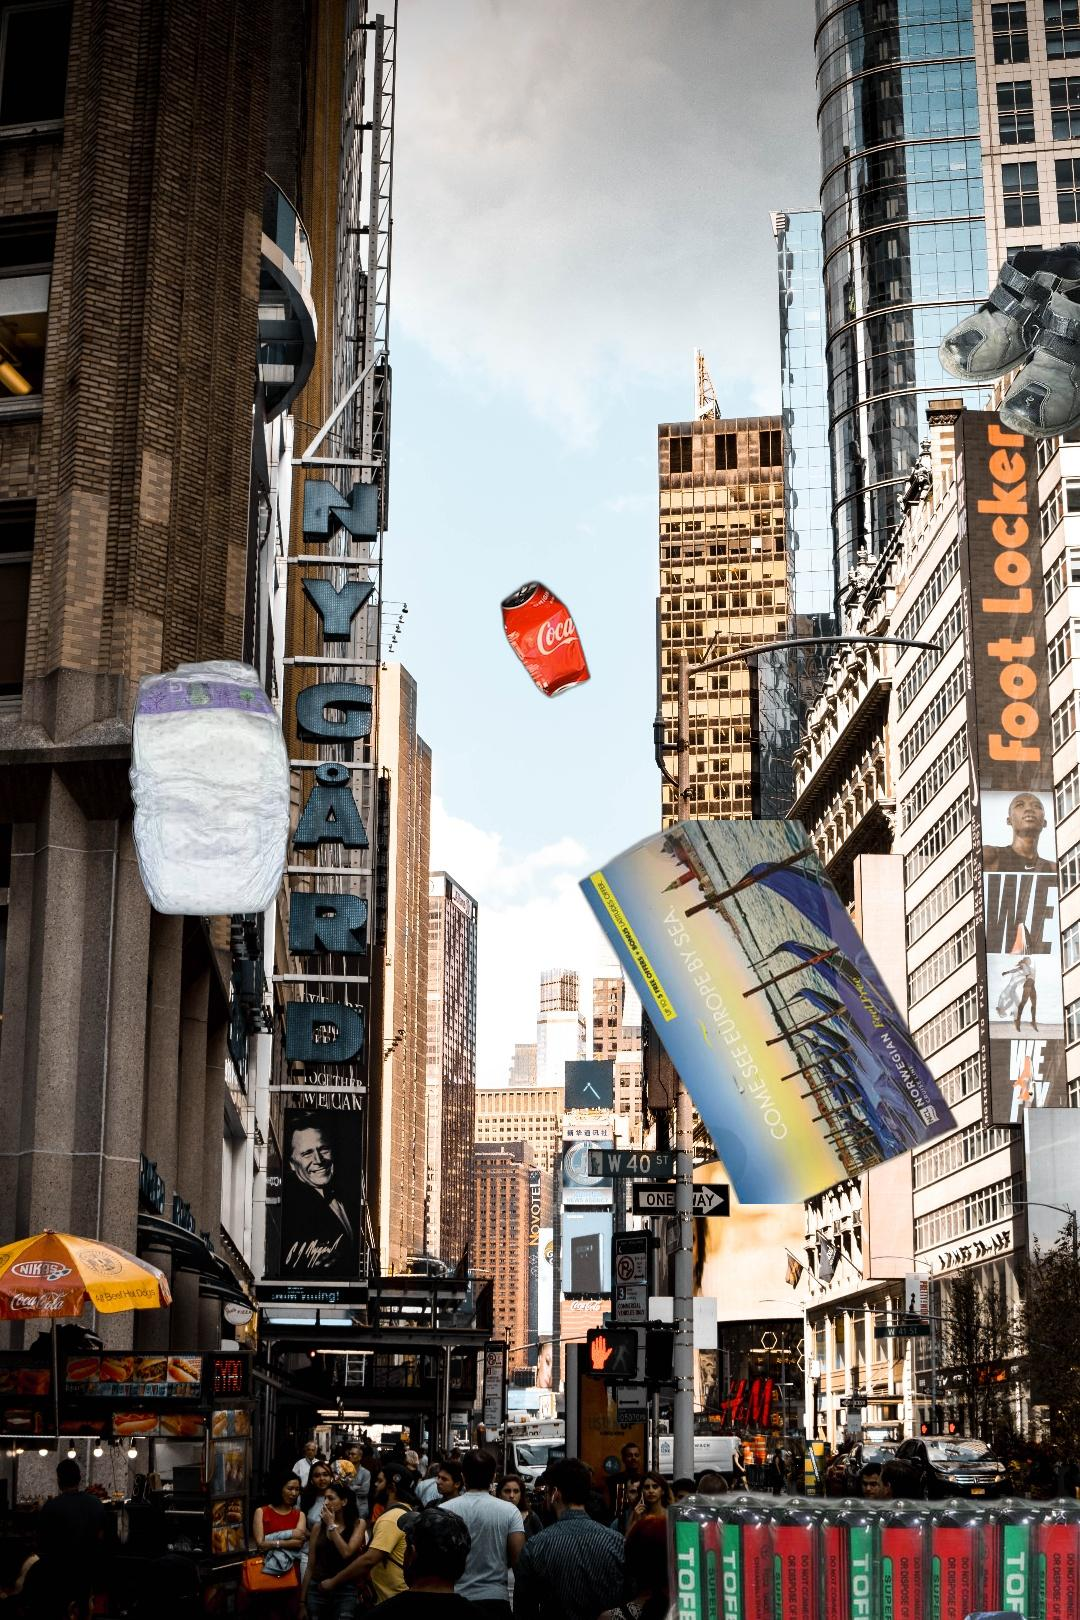battery: (526, 1483, 1080, 1620)
clothes: (808, 1606, 1080, 1620)
metal-cans: (495, 301, 808, 703)
paper: (575, 820, 963, 1204)
shoes: (937, 240, 1080, 441)
trash: (123, 656, 293, 918)
trashbox-cardboard: (1008, 1606, 1080, 1620)
